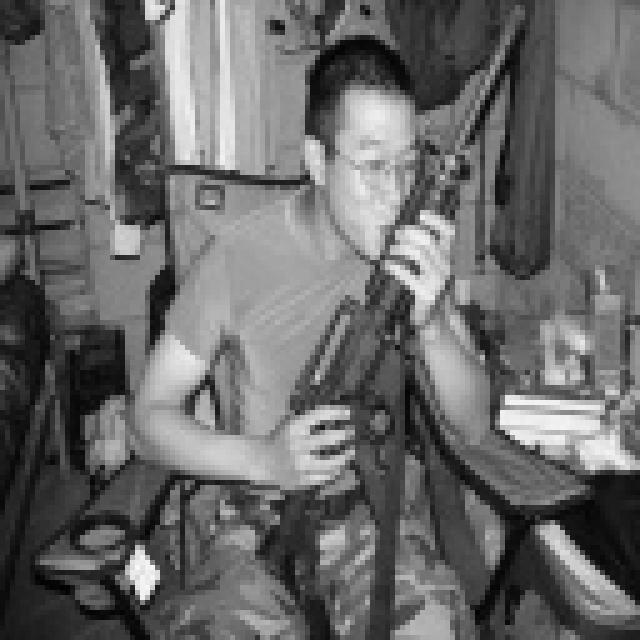Rifle: (249, 17, 577, 640)
